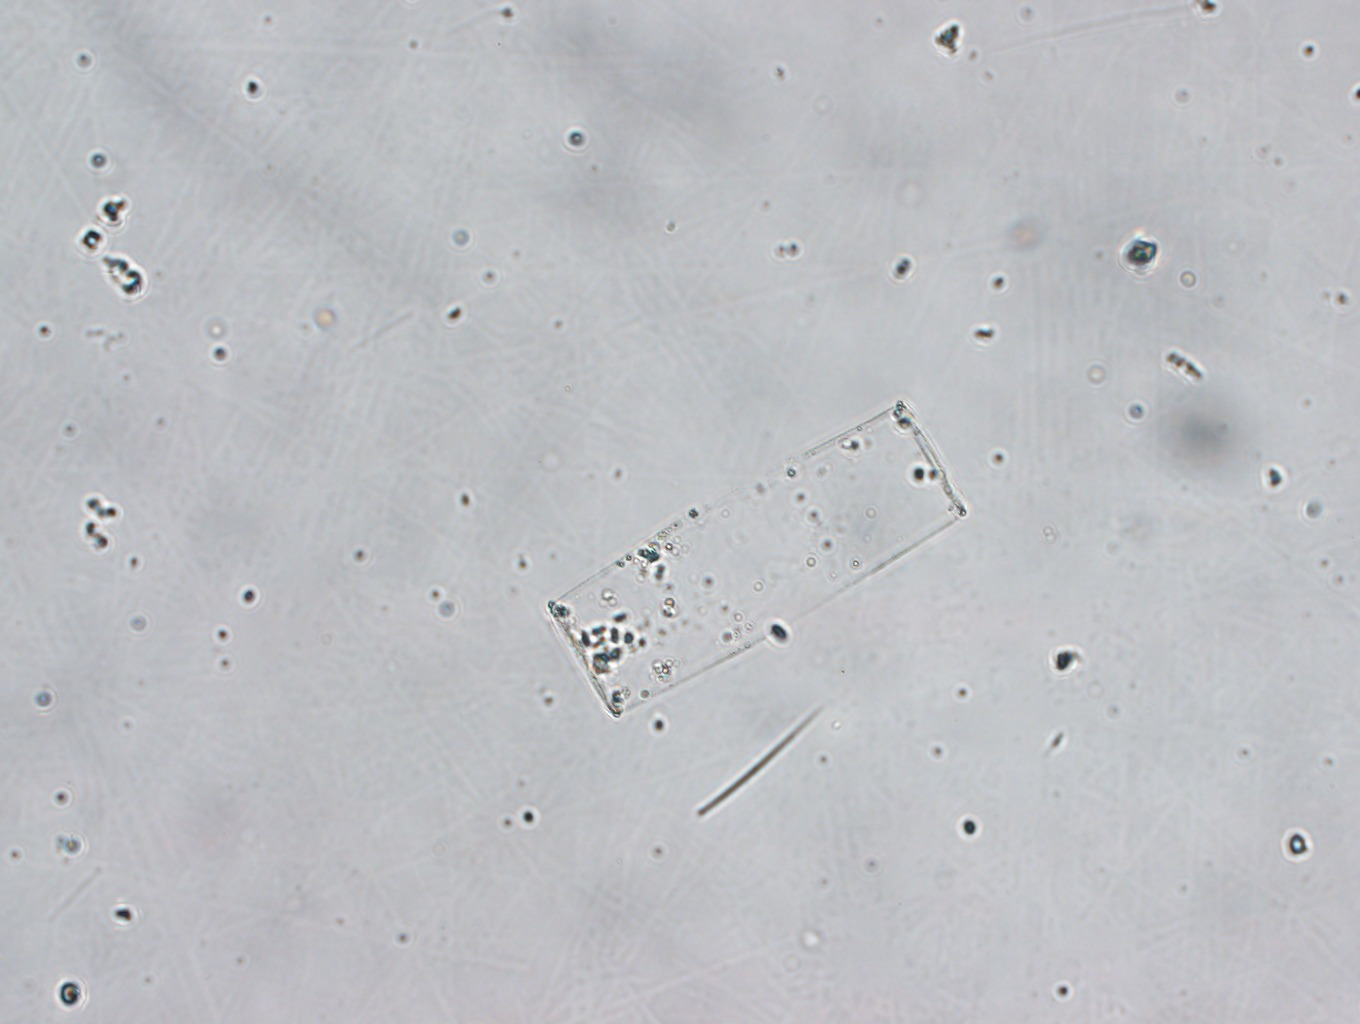guinardia flaccida: (534, 395, 972, 723)
